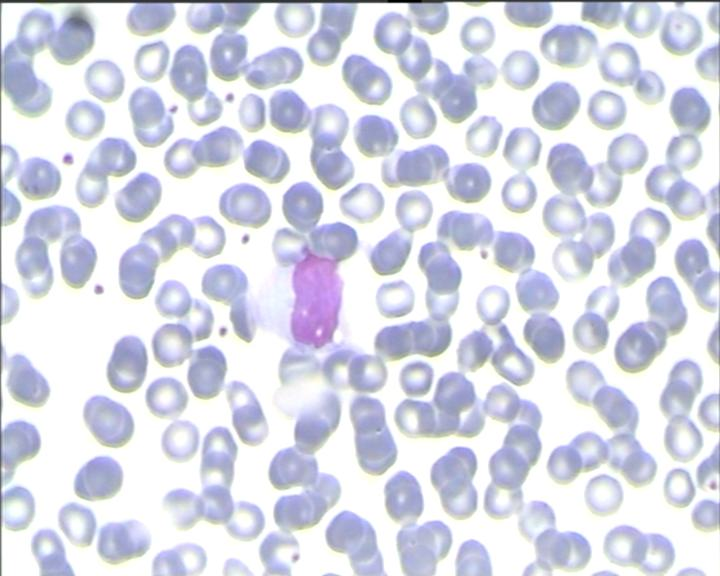mono: (254, 235, 355, 356)
